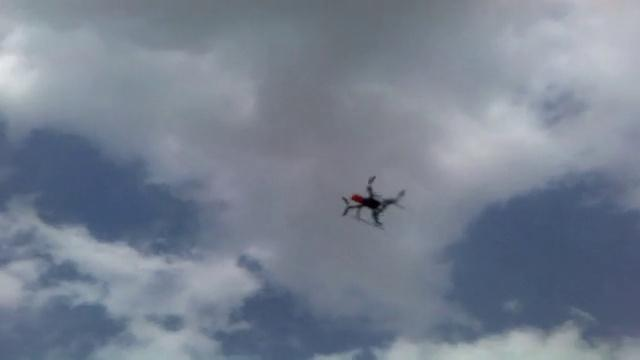drone: (338, 174, 405, 229)
